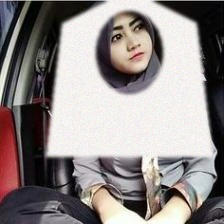Mukena: (46, 0, 212, 157)
